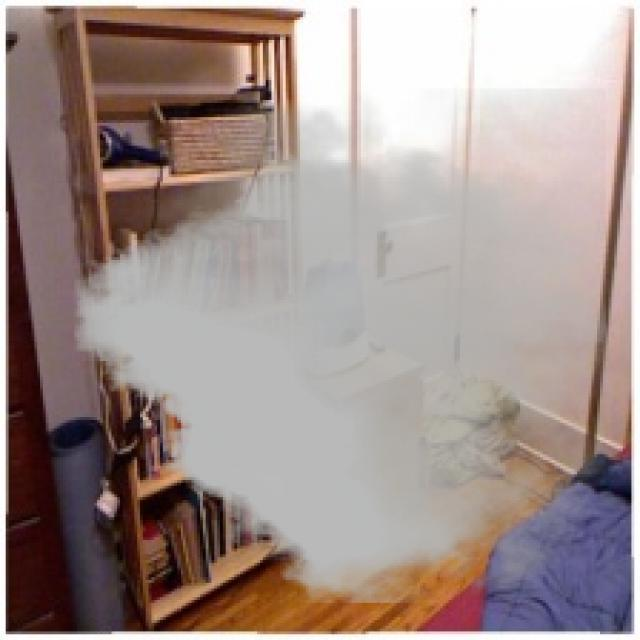Smoke: (74, 89, 606, 612)
